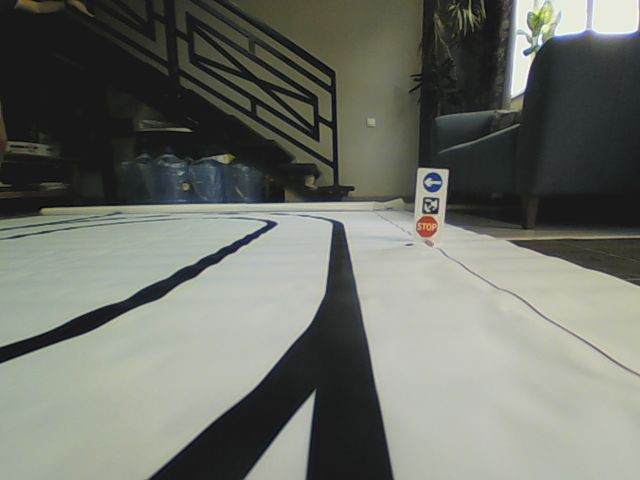Stop: (415, 215, 438, 238)
